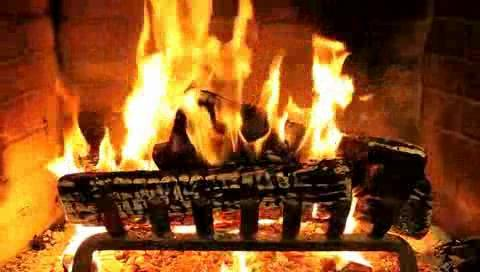fire: (116, 3, 346, 159)
